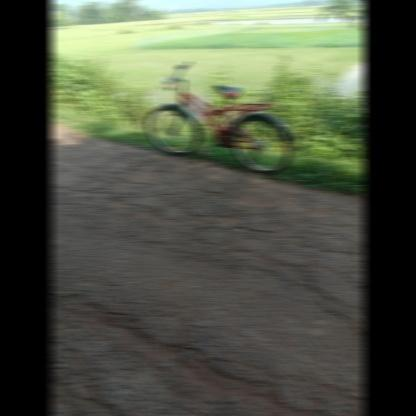Bicycle: (126, 47, 311, 198)
